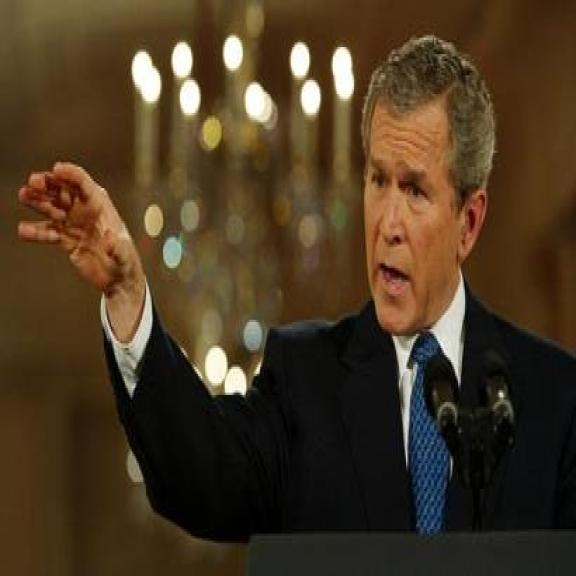face: (365, 62, 488, 333)
